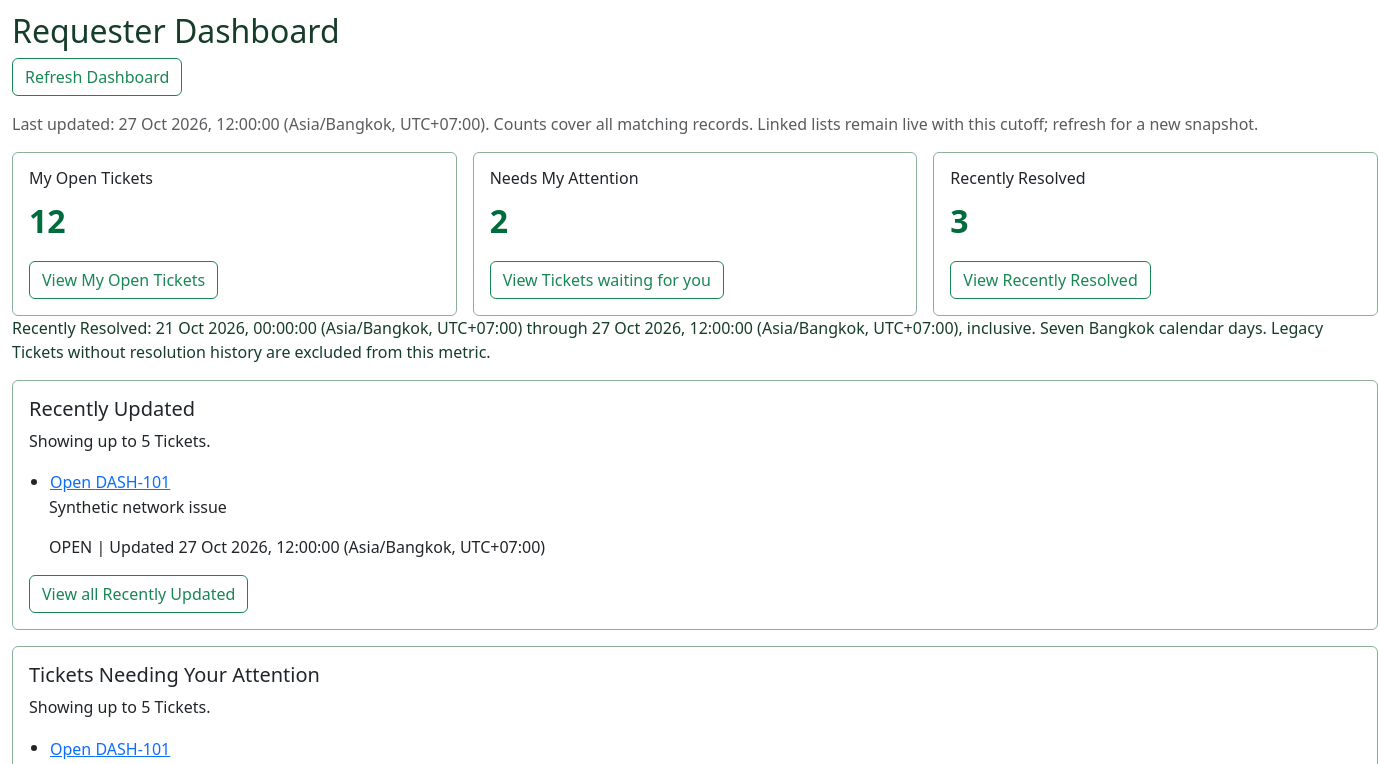
Test: I5 Requester Dashboard › removes data and reports protected failure 401
The image size is (1378, 764).
Expected: the text "12" is shown, 29,199 -> 66,242
Click the button "Refresh Dashboard" at x=97, y=77, box 12,58 -> 182,96
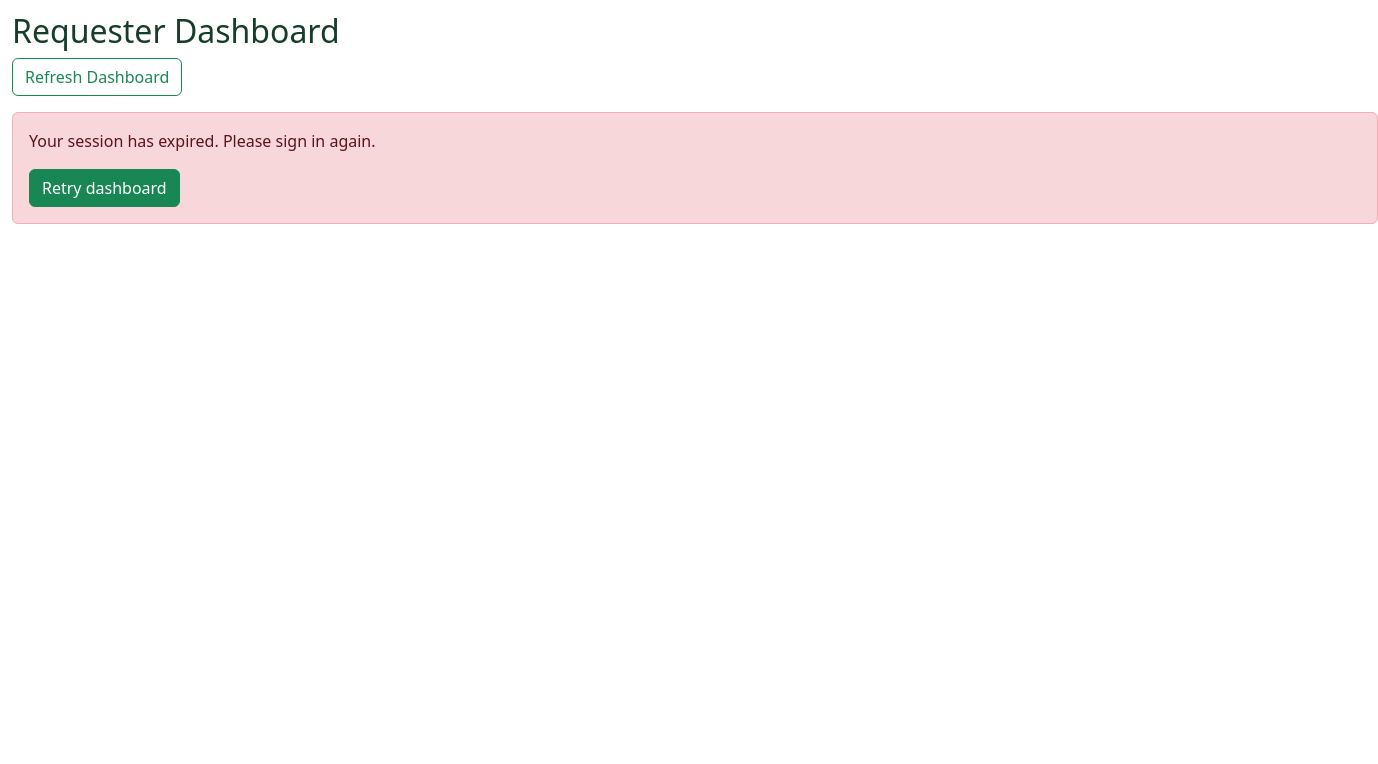
Now the message "Your session has expired. Please sign in again. Retry dashboard" is shown, box 12,112 -> 1377,224
Now the text "12" is gone
